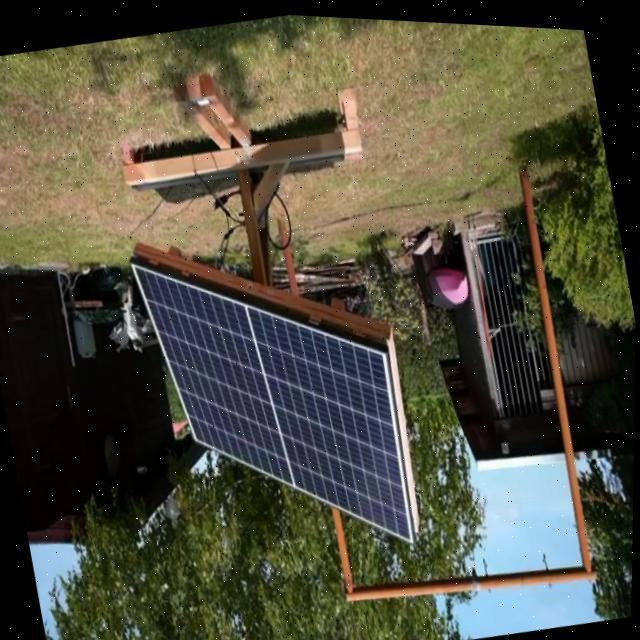Normal Solar Panel: (130, 214, 425, 577)
